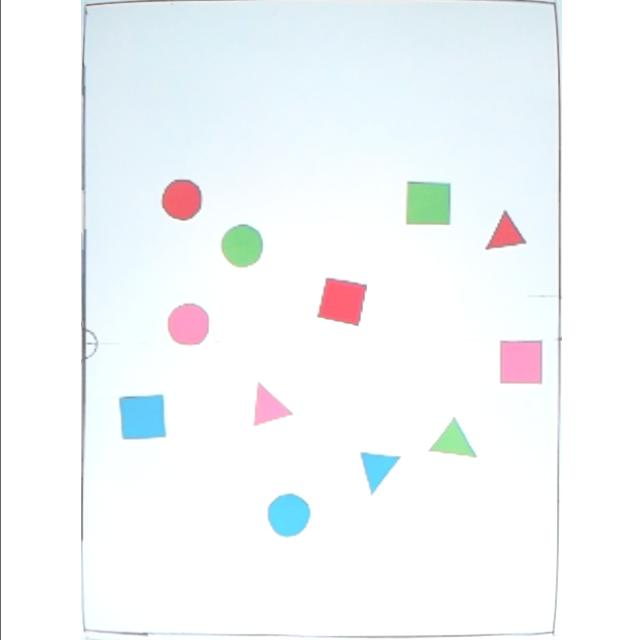blueCircle: (264, 492, 310, 538)
blueSquare: (116, 392, 166, 443)
blueTriangle: (356, 452, 402, 496)
greenCircle: (218, 223, 262, 269)
greenSquare: (402, 179, 452, 229)
greenTriangle: (424, 416, 478, 464)
pinkCircle: (163, 302, 210, 346)
pinkSquare: (494, 338, 544, 388)
pinkTriangle: (250, 380, 292, 430)
redCircle: (158, 179, 202, 223)
redSquare: (314, 276, 368, 328)
redTriangle: (479, 210, 526, 254)
